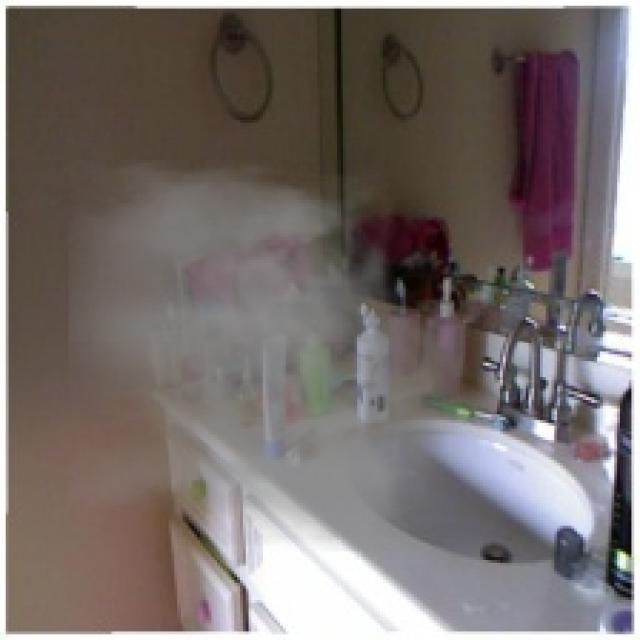smoke: (68, 160, 483, 551)
